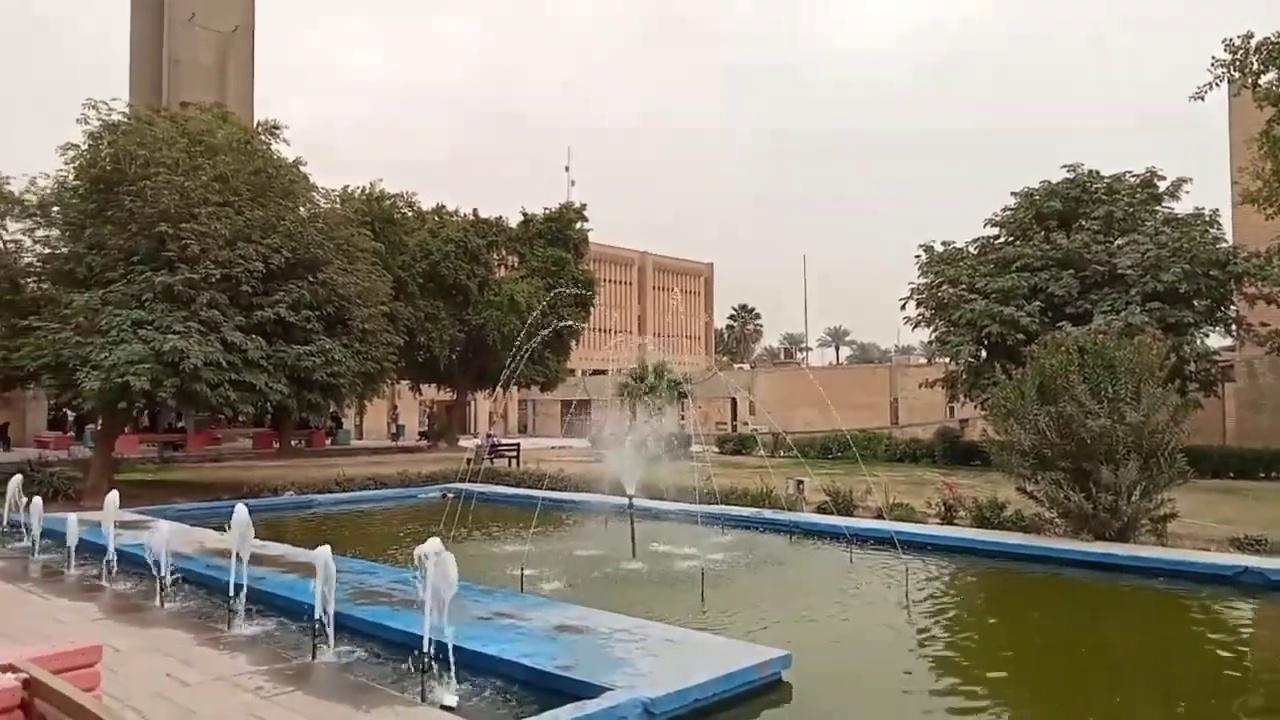fountain: (3, 283, 827, 717), (2, 470, 1278, 717), (1, 478, 464, 711), (408, 534, 461, 708), (223, 500, 255, 611), (307, 542, 337, 658), (141, 517, 179, 606), (1, 471, 28, 545), (98, 486, 120, 574), (25, 494, 45, 557)
person: (387, 404, 400, 445), (484, 431, 499, 463), (328, 409, 343, 434), (0, 421, 11, 452)
tree: (1, 94, 402, 506), (898, 160, 1273, 439), (977, 318, 1198, 544), (399, 195, 598, 441), (1187, 26, 1279, 356), (613, 356, 693, 456), (721, 301, 763, 363), (813, 478, 860, 516), (816, 323, 854, 364), (776, 330, 811, 362), (845, 339, 887, 363)
